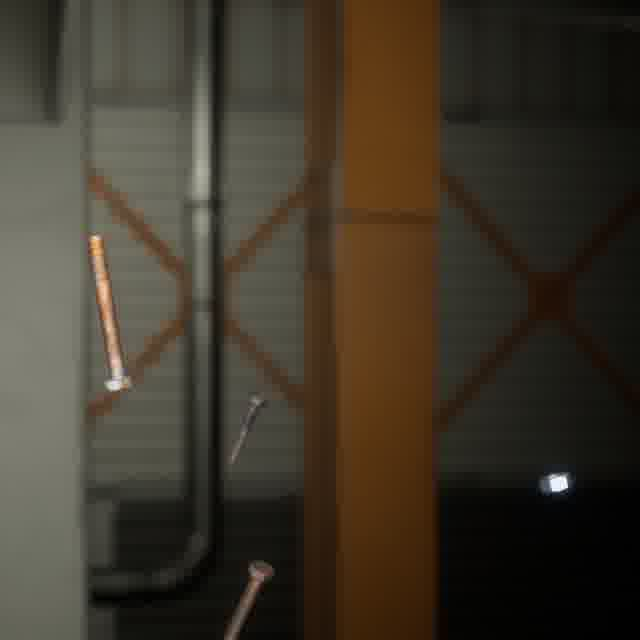bolt: (82, 229, 137, 395), (219, 556, 278, 640), (222, 386, 272, 474)
nut: (534, 467, 577, 497)
